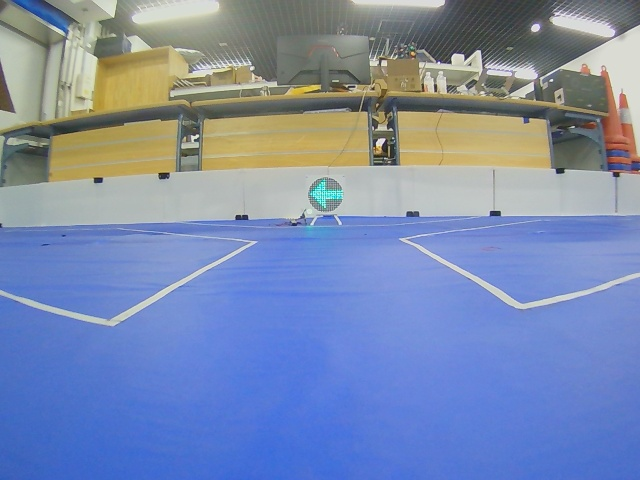left_green: (308, 177, 344, 213)
